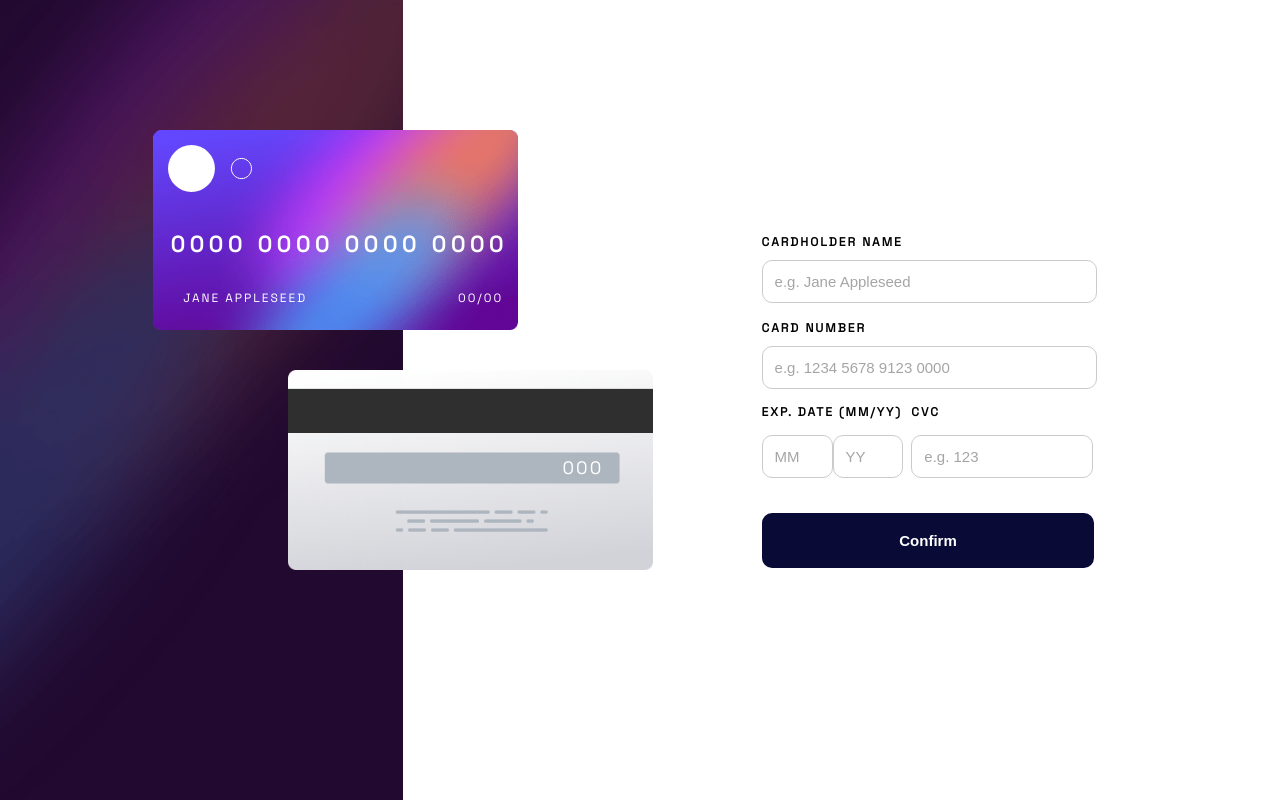
Test: App component › Sidebar elements content change › should change cvc number display when typing in input
Type "12" into the field with placeholder "e.g. 123" at (1002, 456), box [911,435,1093,478]
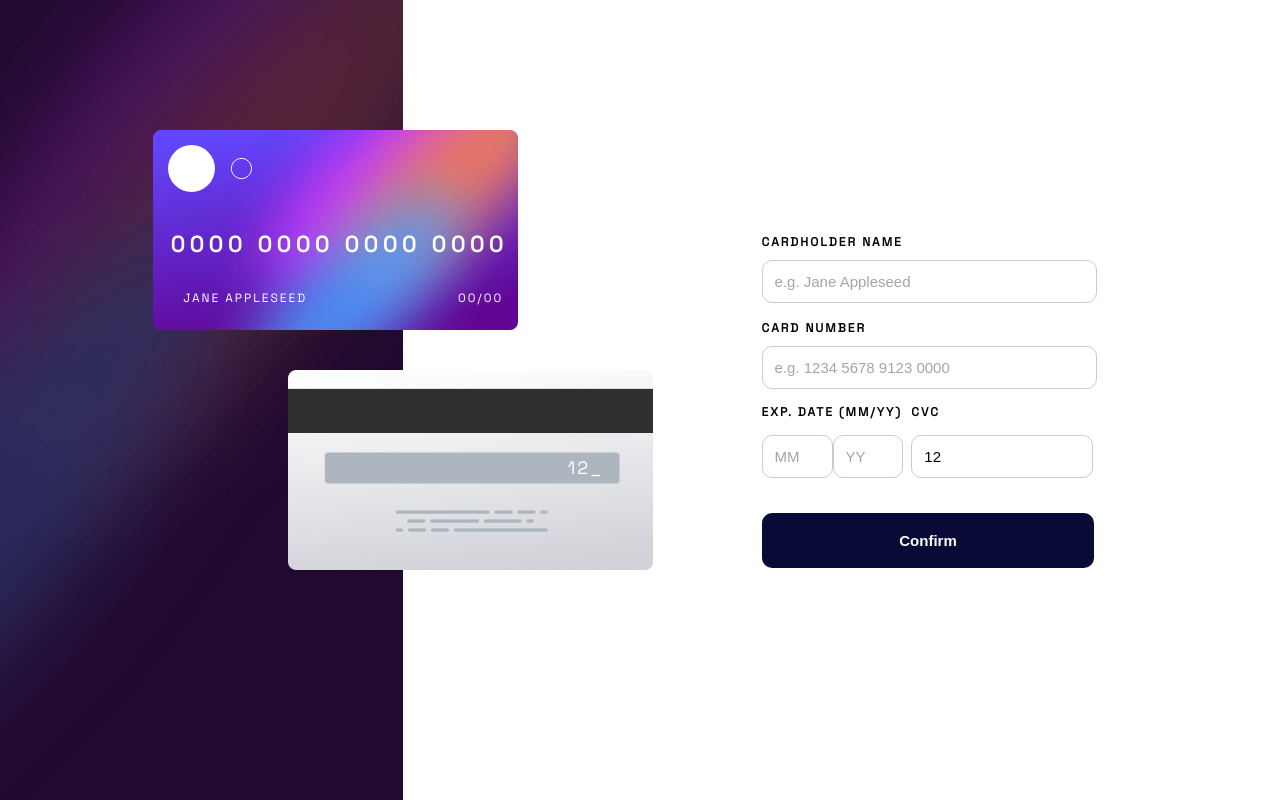
Check: the text with test id "cvc_num_cont" reads "12_", box [568,456,603,479]
